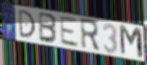3: (102, 22, 120, 56)
B: (38, 11, 59, 45)
D: (17, 9, 37, 39)
E: (58, 14, 80, 48)
M: (118, 24, 145, 61)
R: (79, 18, 101, 54)
